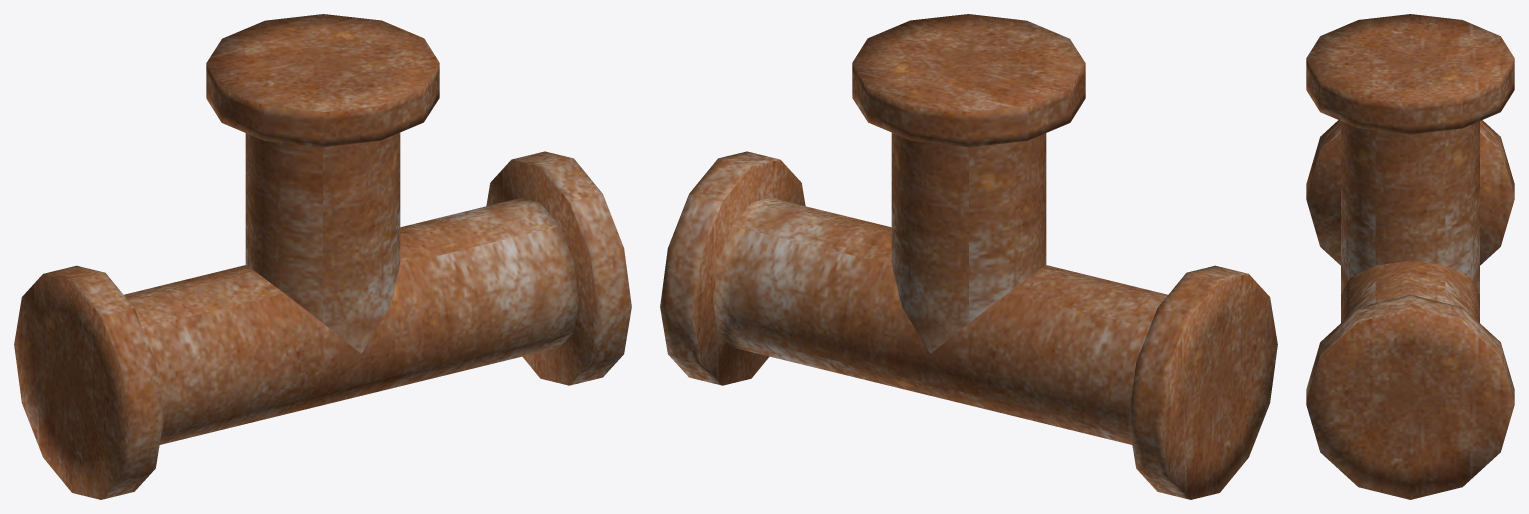
File: pipe.t.shape.fbx
The picture shows the model from 3 angles, left to right: view 1: azimuth 30°, elevation 25°; view 2: azimuth 150°, elevation 25°; view 3: azimuth 270°, elevation 25°; orthographic projection. The views are drawn at different scales.
Parts seen in each view (by area): view 1: Cylinder, Cylinder.001; view 2: Cylinder, Cylinder.001; view 3: Cylinder, Cylinder.001.
Boxes of the visible parts, <box> form: Cylinder: <box>14,151,631,499</box>; Cylinder.001: <box>206,14,439,353</box>; Cylinder: <box>660,151,1277,499</box>; Cylinder.001: <box>852,14,1085,353</box>; Cylinder: <box>1306,120,1514,499</box>; Cylinder.001: <box>1306,14,1514,293</box>.
Bounding box in the file's own units: 150 × 105 × 60.03.
1 material, 1 textured.
